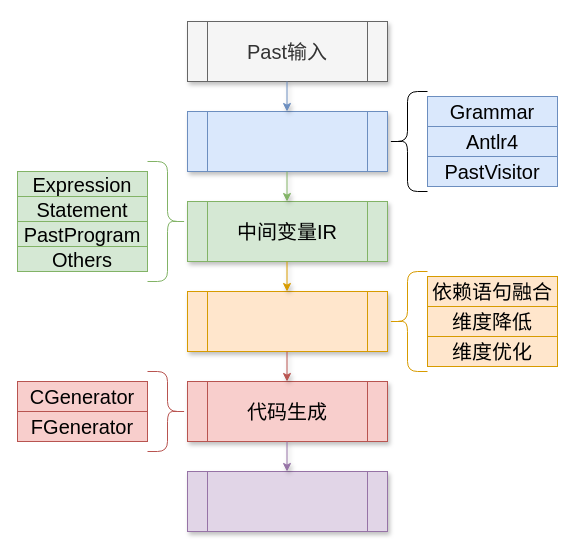
Image size: 575x556. Some labels were removed from this diagram. Here are the shapes that lost their labels. From the top down, the centre of each, then its label:
At point 288,142: "前端".
At point 288,322: "后端分析优化".
At point 288,502: "Past 输出".
